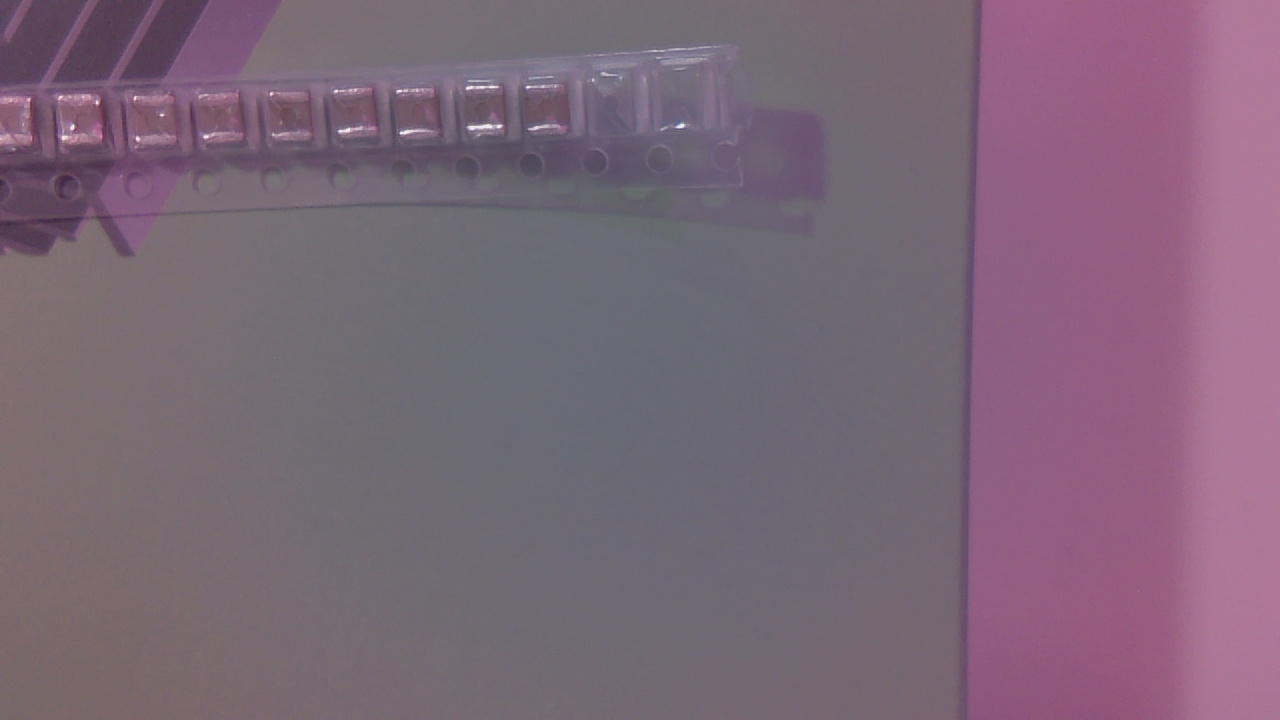Condensator: (203, 92, 252, 150), (401, 86, 446, 149), (338, 84, 382, 146), (63, 93, 108, 153), (275, 93, 318, 152), (468, 83, 508, 146), (135, 95, 180, 151), (530, 87, 571, 141), (7, 99, 38, 156)
